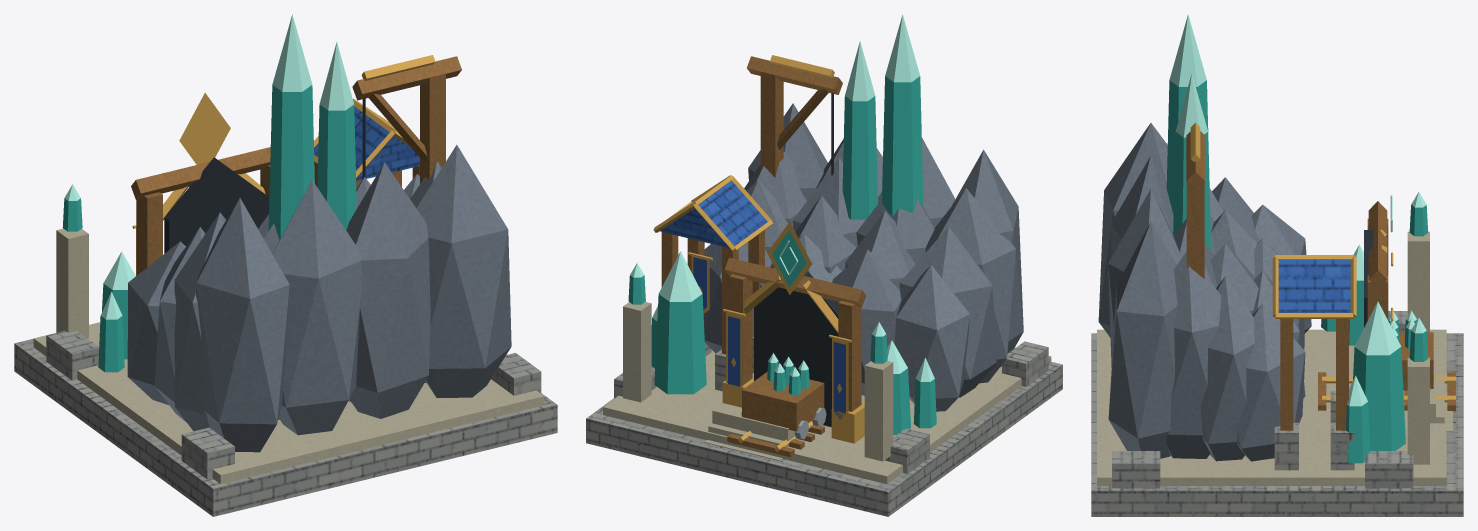
File: CrystalMine_3.fbx
The picture shows the model from 3 angles, left to right: view 1: azimuth 30°, elevation 25°; view 2: azimuth 150°, elevation 25°; view 3: azimuth 270°, elevation 25°; orthographic projection. The views are drawn at different scales.
Visible parts, largest first — view 1: BuildingBody; view 2: BuildingBody; view 3: BuildingBody.
Boxes of the visible parts, x1,y1,x2,y2 form: BuildingBody: (14, 14, 557, 516); BuildingBody: (586, 14, 1062, 516); BuildingBody: (1091, 14, 1463, 516).
Bounding box in the file's own units: 1 × 1.22 × 1.
1 material, 1 textured.
